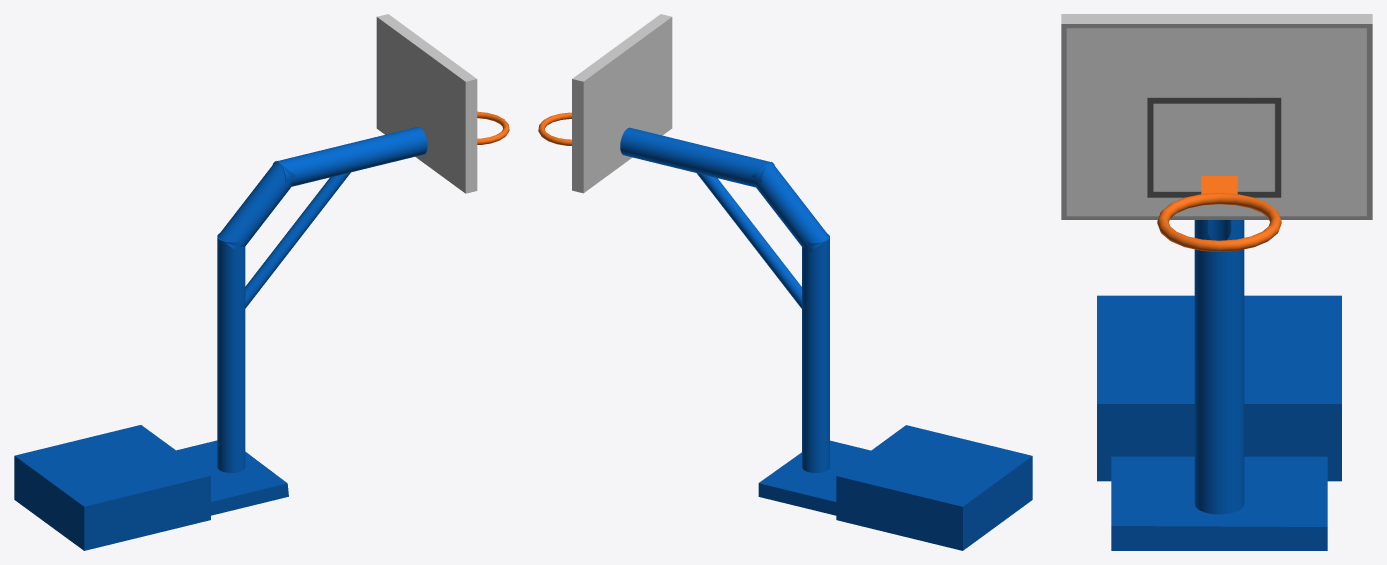
The model's file is basketballStands.obj.
3 views of the same model, side by side, from view 1: azimuth 30°, elevation 25°; view 2: azimuth 150°, elevation 25°; view 3: azimuth 270°, elevation 25° (orthographic). The views are drawn at different scales.
Visible parts, largest first — view 1: transform414; view 2: transform414; view 3: transform414, set29 transform414.
Part boxes in pixels (x1=…): transform414: x1=14, y1=14, x2=509, y2=550; transform414: x1=538, y1=14, x2=1032, y2=550; transform414: x1=1061, y1=14, x2=1372, y2=550; set29 transform414: x1=1061, y1=24, x2=1372, y2=219.
Bounding box in the file's own units: 7.78 × 6.3 × 2.63.
Materials: 2 (2 with a texture image).
